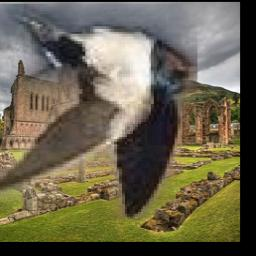Swallow: (0, 5, 198, 219)
